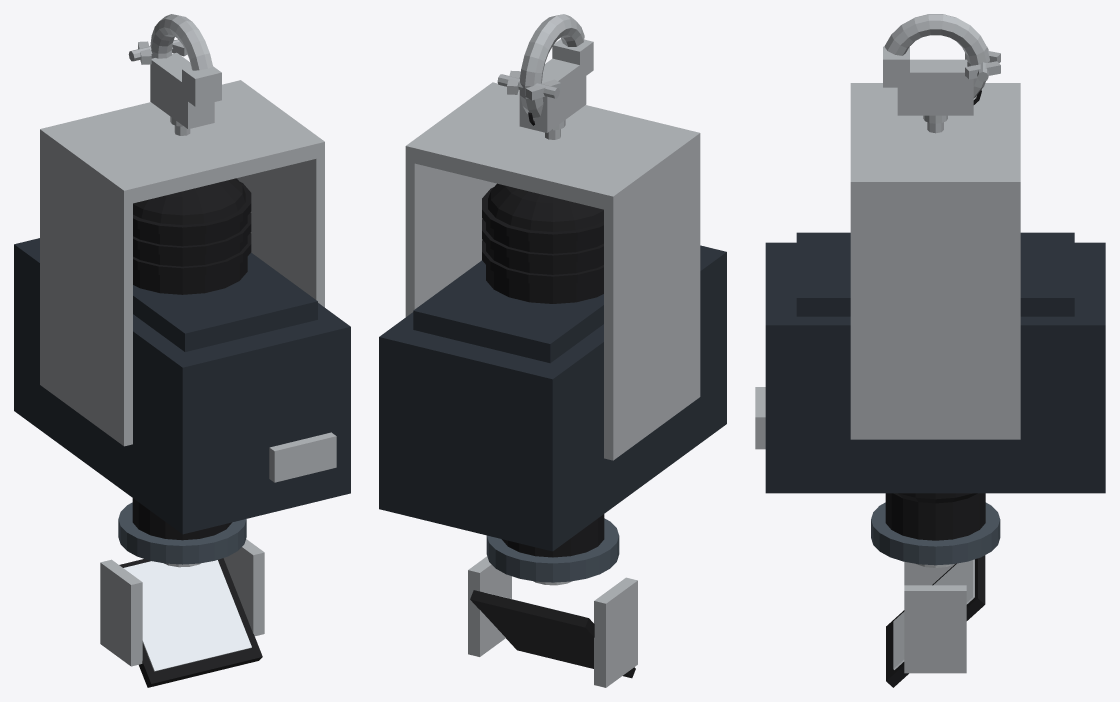
The model's file is scanner-compact.glb.
3 renders of one model, left to right at view 1: azimuth 30°, elevation 25°; view 2: azimuth 150°, elevation 25°; view 3: azimuth 270°, elevation 25°, orthographic. The views are drawn at different scales.
Parts seen in each view (by area): view 1: scanner-chassis, hanging-frame, optics-house, head-mirror, yoke-cheeks, truss-coupler, lens-ring, head-mirror-back, chassis-display, optics-nose, truss-coupler-bolt; view 2: scanner-chassis, hanging-frame, optics-house, yoke-cheeks, truss-coupler, head-mirror-back, lens-ring, optics-nose, truss-coupler-bolt; view 3: hanging-frame, scanner-chassis, truss-coupler, yoke-cheeks, optics-nose, lens-ring, head-mirror-back, head-mirror, chassis-display, truss-coupler-bolt.
Boxes of the visible parts, x1,y1,x2,y2 form: scanner-chassis: [14, 238, 350, 534]; hanging-frame: [40, 80, 324, 446]; optics-house: [133, 178, 251, 294]; head-mirror: [123, 560, 251, 671]; yoke-cheeks: [100, 539, 264, 666]; truss-coupler: [150, 14, 221, 135]; lens-ring: [118, 502, 246, 564]; head-mirror-back: [119, 558, 262, 687]; chassis-display: [269, 432, 336, 482]; optics-nose: [132, 498, 231, 540]; truss-coupler-bolt: [128, 39, 187, 64]; scanner-chassis: [379, 245, 726, 551]; hanging-frame: [405, 82, 700, 460]; optics-house: [482, 183, 603, 303]; yoke-cheeks: [468, 556, 637, 687]; truss-coupler: [519, 14, 593, 139]; head-mirror-back: [470, 590, 635, 678]; lens-ring: [486, 518, 619, 582]; optics-nose: [501, 514, 604, 557]; truss-coupler-bolt: [497, 70, 560, 100]; hanging-frame: [850, 83, 1020, 439]; scanner-chassis: [765, 232, 1105, 493]; truss-coupler: [883, 14, 989, 133]; yoke-cheeks: [904, 562, 966, 673]; optics-nose: [885, 493, 985, 540]; lens-ring: [871, 502, 1000, 565]; head-mirror-back: [886, 555, 985, 687]; head-mirror: [893, 559, 974, 669]; chassis-display: [755, 387, 765, 449]; truss-coupler-bolt: [965, 47, 1000, 81].
Bounding box in the file's own units: 0.2271 × 0.6918 × 0.34.
